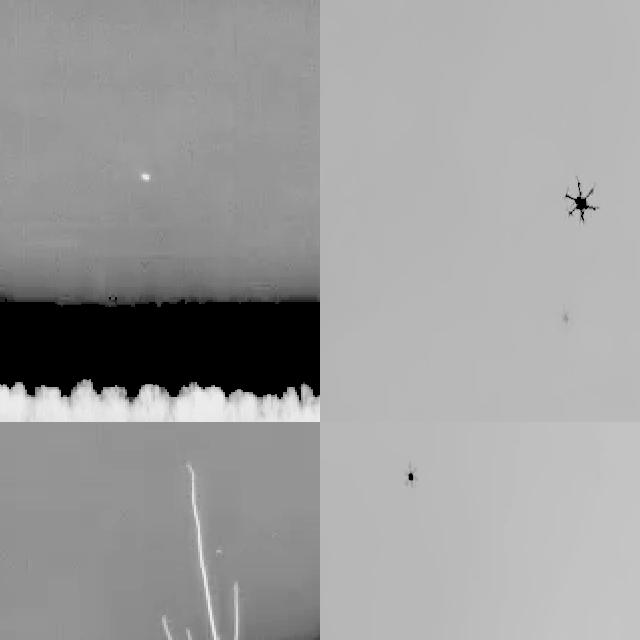0: (205, 542, 227, 562)
1: (129, 167, 155, 195)
drone: (562, 167, 602, 230), (402, 459, 419, 494)
